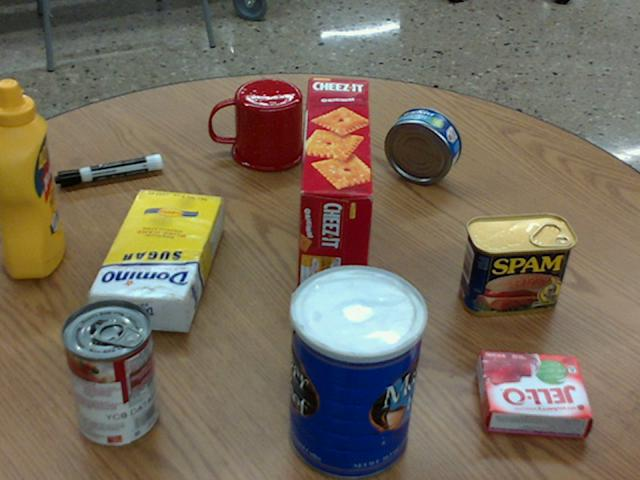cracker_box: (294, 77, 375, 332)
gelatin_box: (478, 350, 592, 438)
large_marker: (55, 153, 161, 185)
master_chef_can: (289, 265, 426, 479)
mug: (209, 79, 305, 171)
mustard_bottle: (0, 79, 63, 276)
potted_meat_can: (459, 213, 575, 315)
sugar_box: (87, 188, 222, 333)
tomato_soup_can: (59, 299, 157, 444)
tuna_fish_can: (383, 107, 459, 183)
